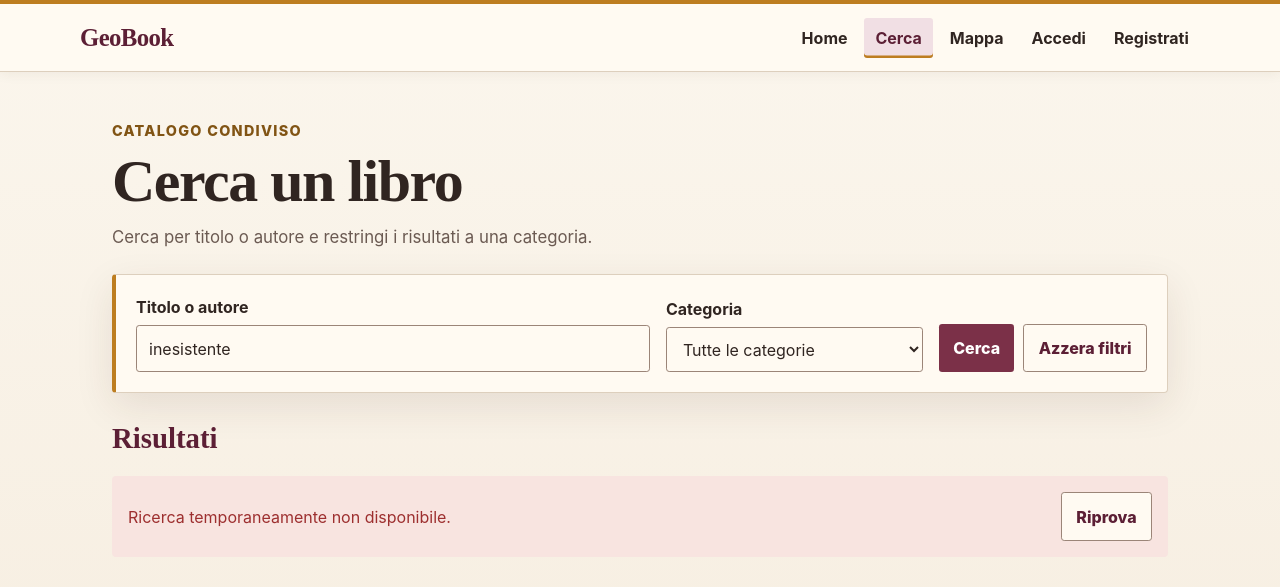
Test: book search › shows an empty state and can retry after a search error
Expected: the text "Ricerca temporaneamente non disponibile." is shown, [128,506,451,526]
Click the button "Riprova" at (1106, 516), box [1061,492,1152,541]
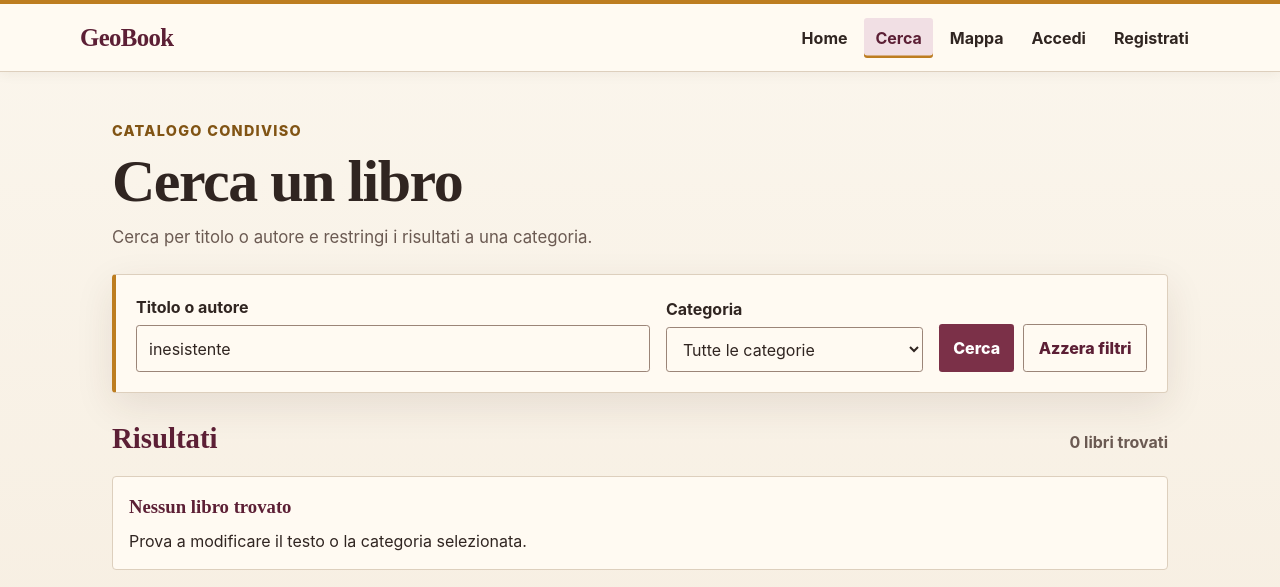
Expected: the heading "Nessun libro trovato" is shown, [129,496,292,517]
